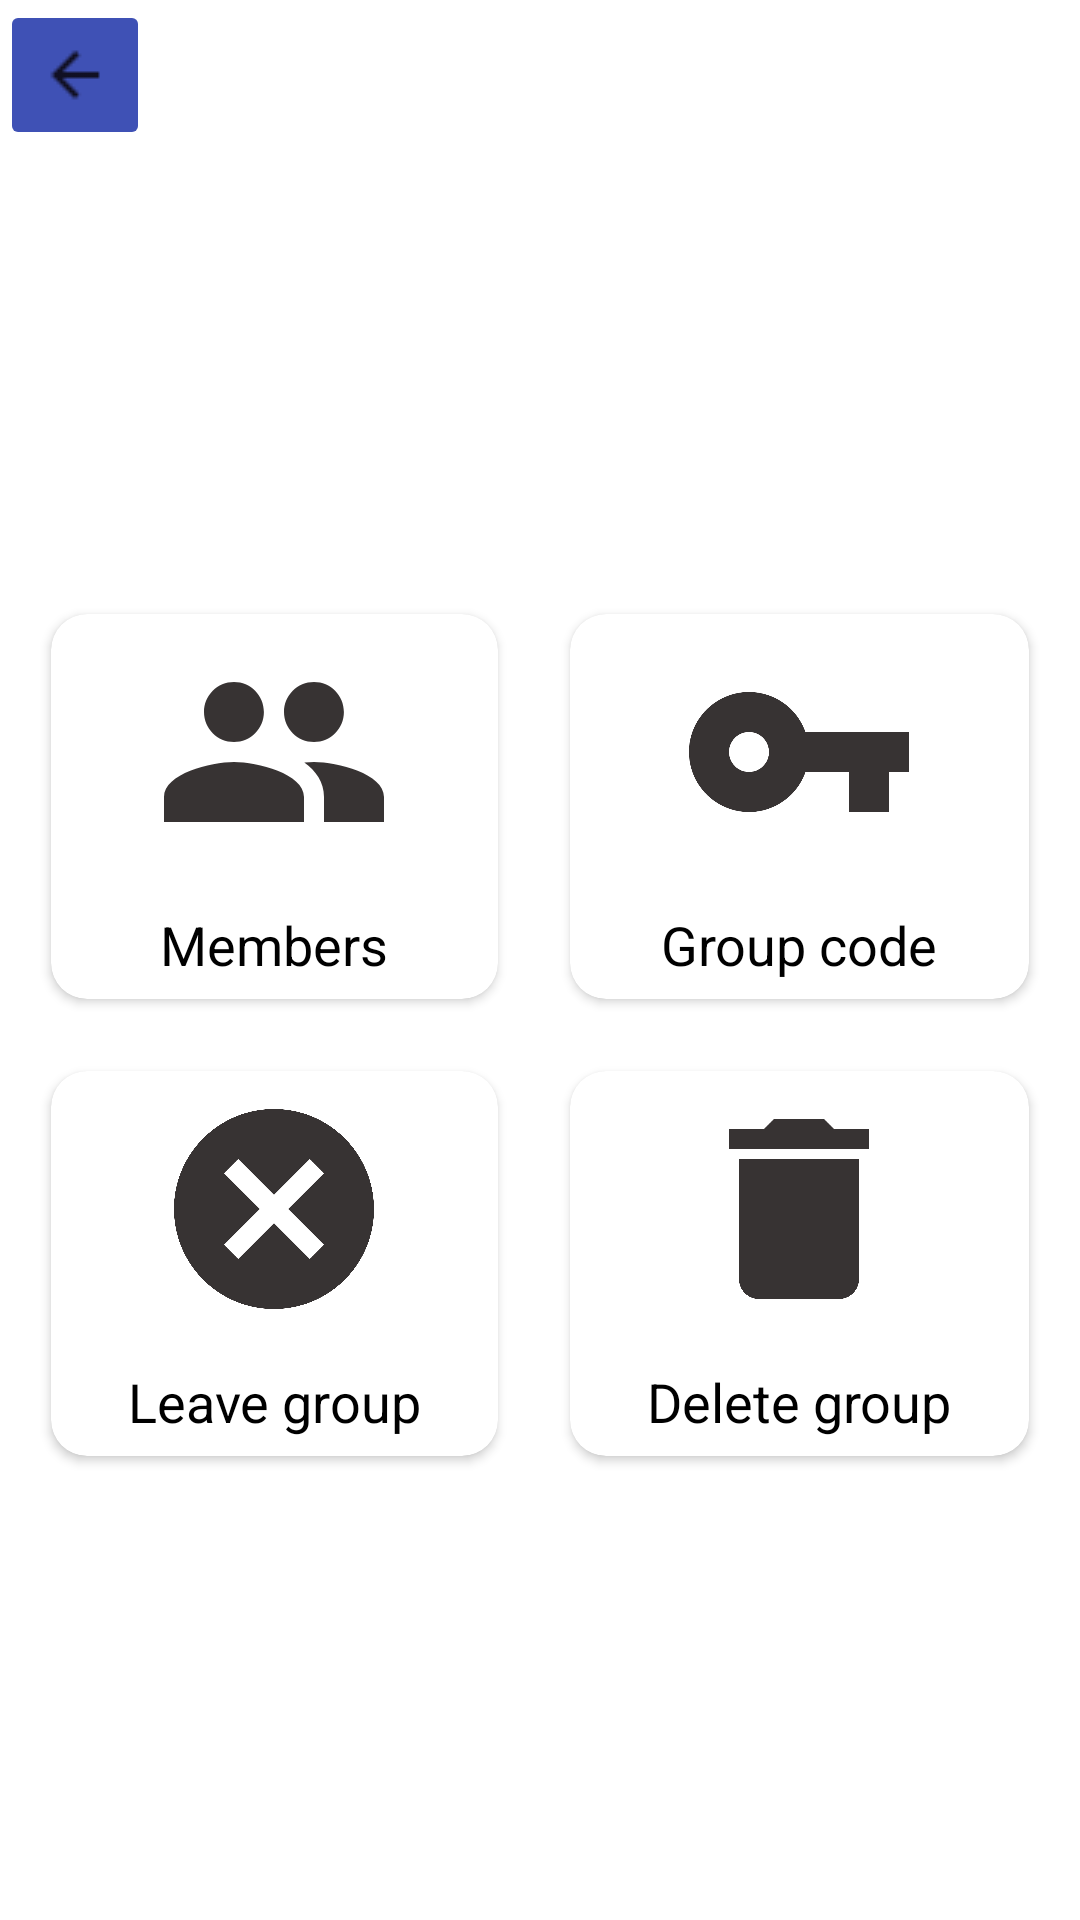

Icon click points for this 1080px x 1920px phone screenshot, format [x,y]:
back good: [75,75]
